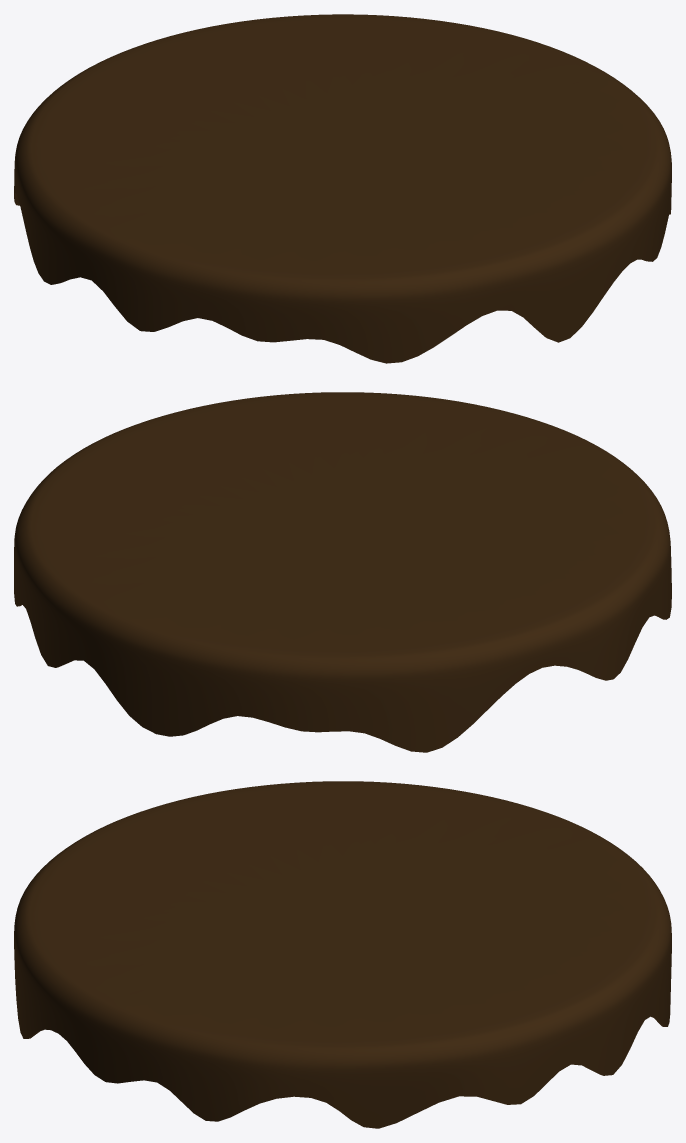
File: GlazeChoco.glb
3 renders of one model, top to bottom at view 1: azimuth 30°, elevation 25°; view 2: azimuth 150°, elevation 25°; view 3: azimuth 270°, elevation 25°, orthographic.
Visible parts, largest first — view 1: Cylinder.003; view 2: Cylinder.003; view 3: Cylinder.003.
Boxes of the visible parts, bbox=[...] form: Cylinder.003: bbox=[14, 14, 671, 363]; Cylinder.003: bbox=[14, 392, 671, 752]; Cylinder.003: bbox=[14, 781, 671, 1128].
Size of the model in its own units: 2 by 0.328 by 1.99.
